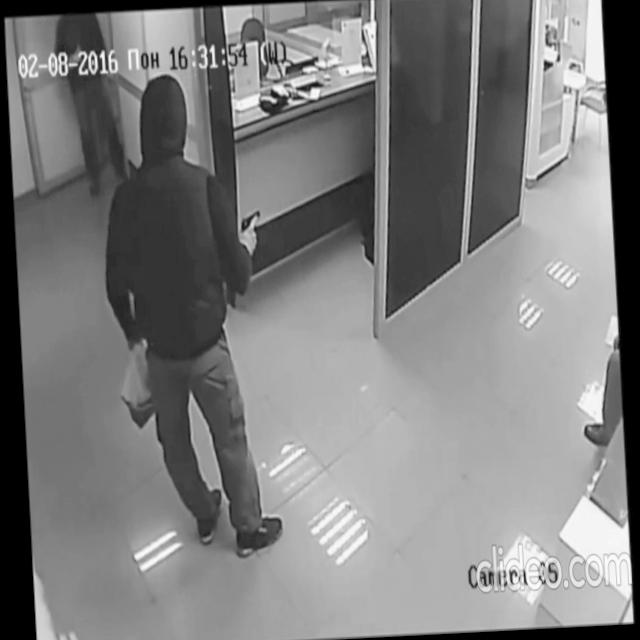gun: (238, 208, 264, 235)
person: (53, 10, 128, 203)
person with a gun: (93, 69, 285, 566)
